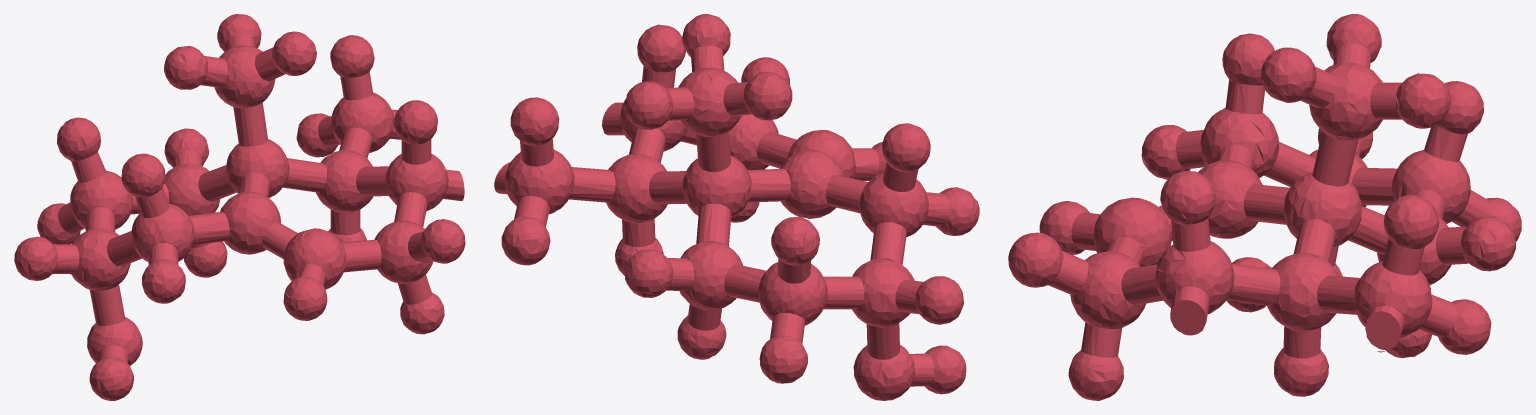
The model's file is molpiece3.glb.
3 renders of one model, left to right at view 1: azimuth 30°, elevation 25°; view 2: azimuth 150°, elevation 25°; view 3: azimuth 270°, elevation 25°, orthographic. The views are drawn at different scales.
Parts seen in each view (by area): view 1: Mesh_Mesh_head_geo.001_lambert2SG.001; view 2: Mesh_Mesh_head_geo.001_lambert2SG.001; view 3: Mesh_Mesh_head_geo.001_lambert2SG.001.
Boxes of the visible parts, x1,y1,x2,y2 form: Mesh_Mesh_head_geo.001_lambert2SG.001: [14, 14, 465, 400]; Mesh_Mesh_head_geo.001_lambert2SG.001: [494, 14, 979, 400]; Mesh_Mesh_head_geo.001_lambert2SG.001: [1008, 14, 1521, 400].
Size of the model in its own units: 61.54 by 44.51 by 54.39.
